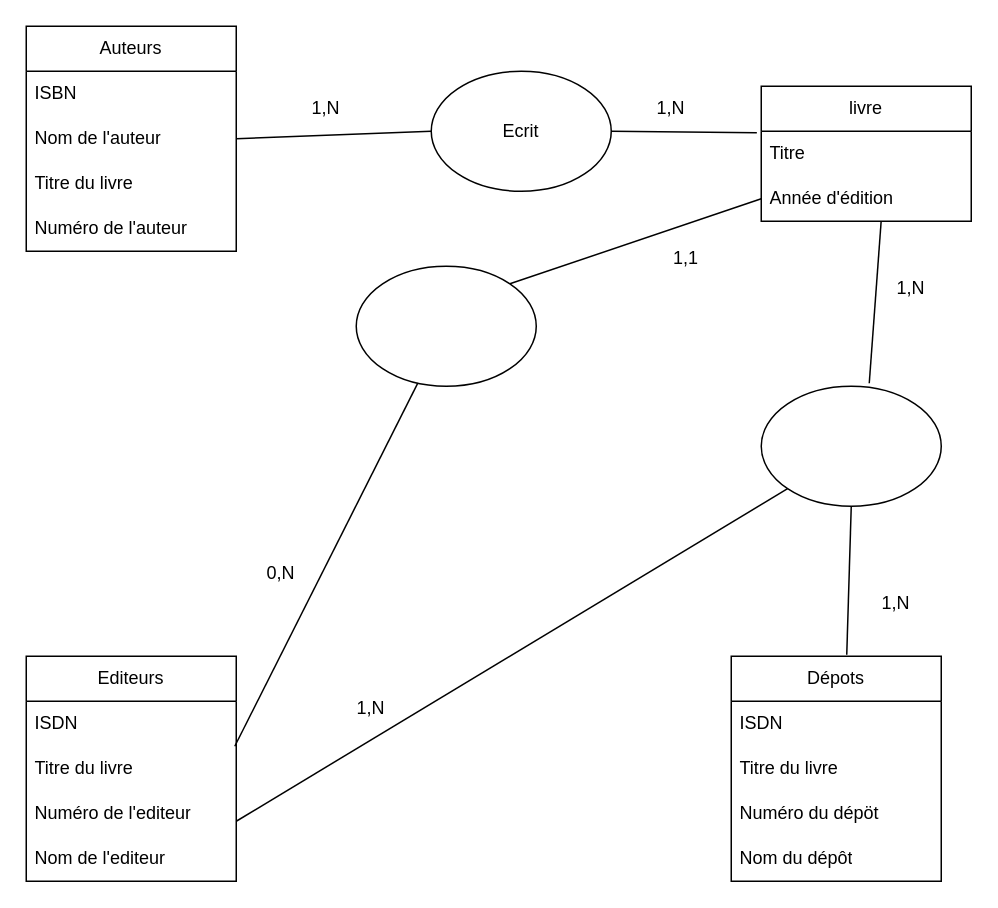
Image size: 998x908. Some labels were removed from this diagram. Each missing label, with the centre of its shape:
"Edité" goes at pixel 445 325.
"Stocké" goes at pixel 850 445.
